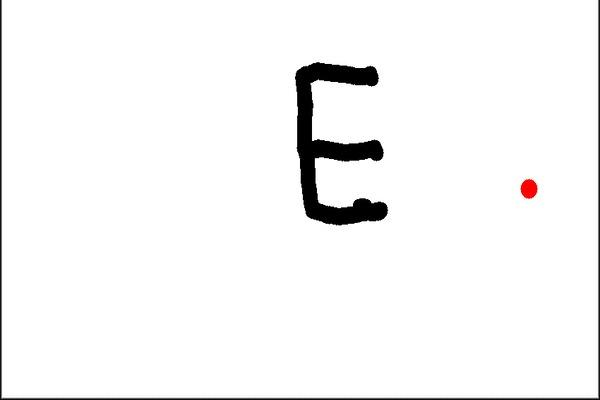E: (287, 59, 402, 228)
